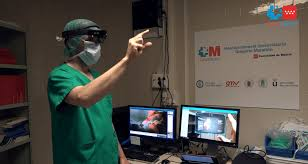hololens: (62, 24, 111, 43)
